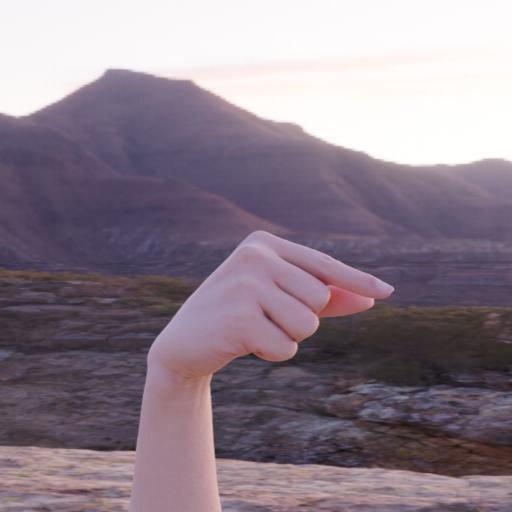G: (109, 201, 409, 512)
